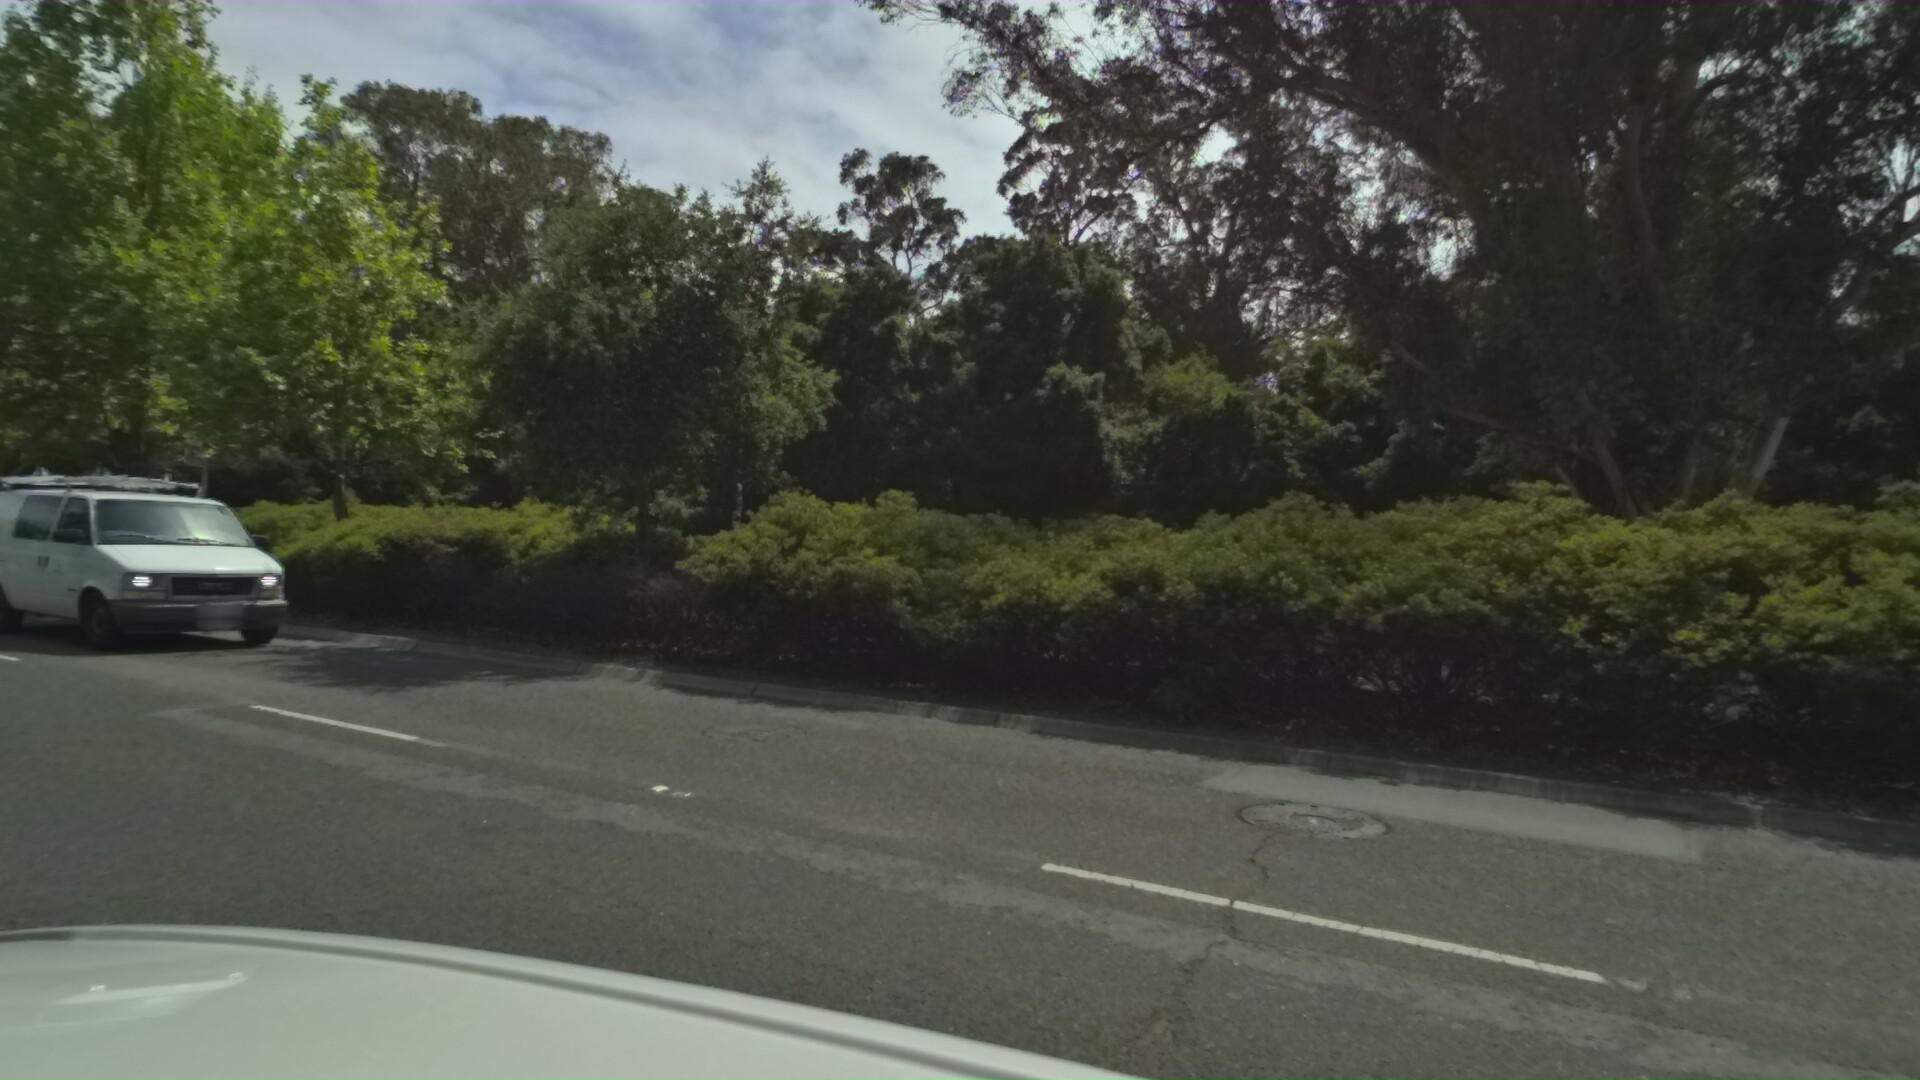car: (0, 447, 314, 655)
